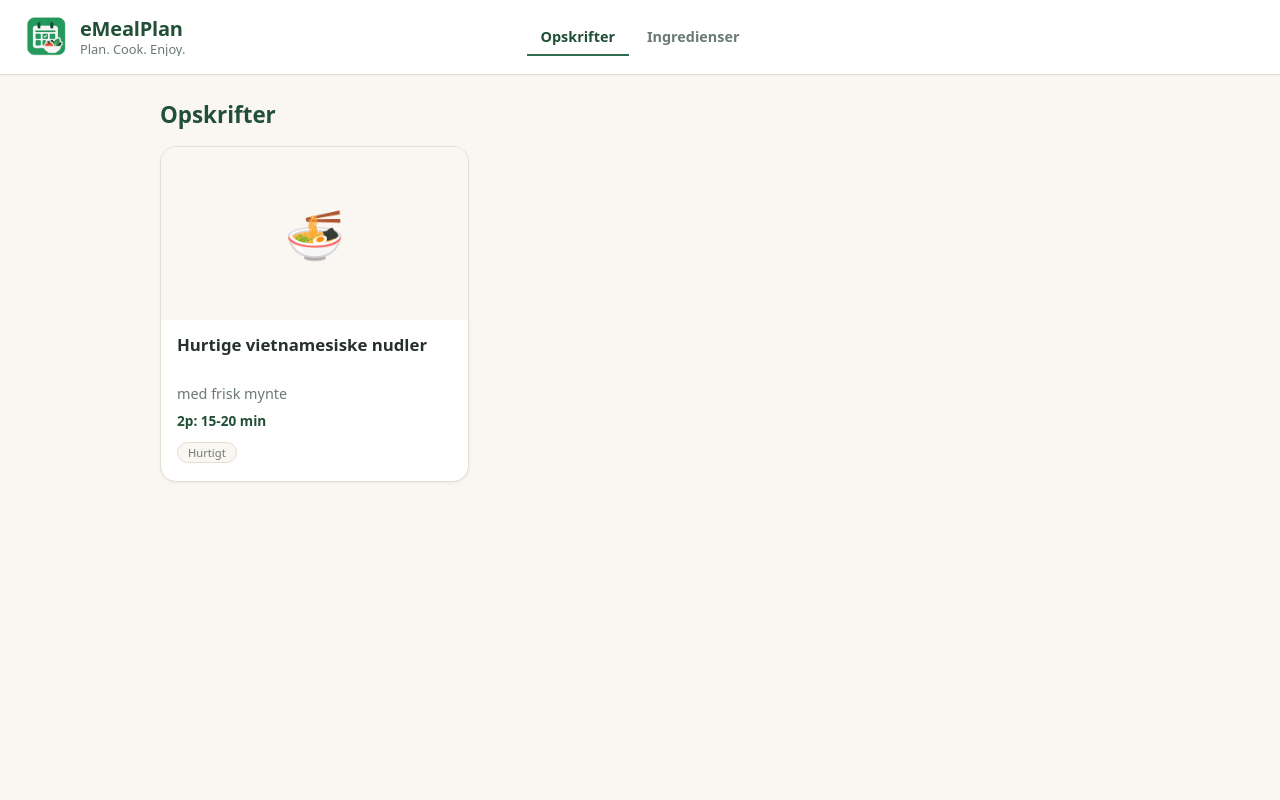
Test case: App › opens the full recipe when a recipe card is clicked
The width and height of the screenshot is (1280, 800).
Click the button "Hurtige vietnamesiske nudler".
click(315, 314)  # box [160,146,469,482]
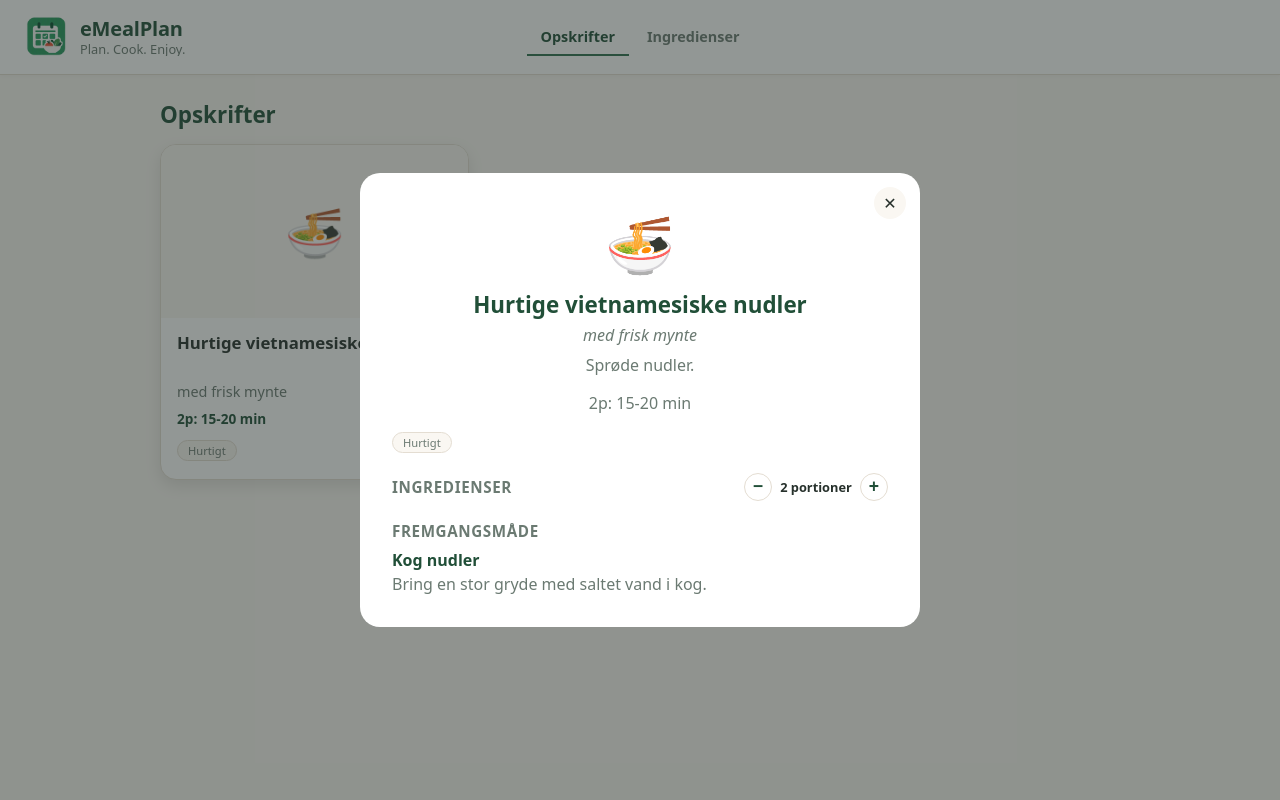
Check: the dialog "Hurtige vietnamesiske nudler" is shown, box [360,173,920,627]
Check: the text "Bring en stor gryde med saltet vand i kog." is shown, box [392,573,707,595]
